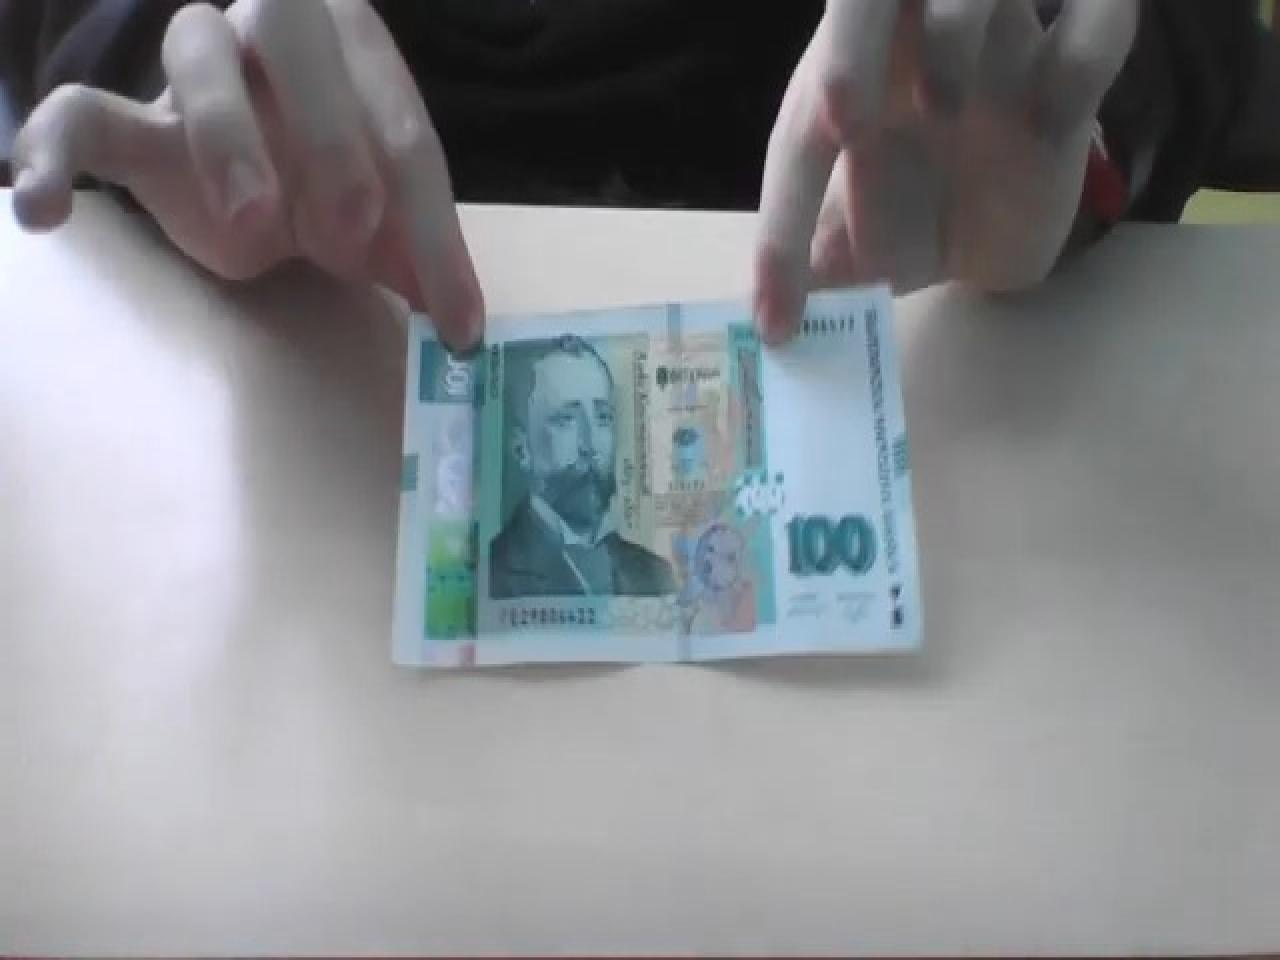100leva: (390, 279, 924, 670), (486, 331, 678, 600), (782, 507, 878, 576)
